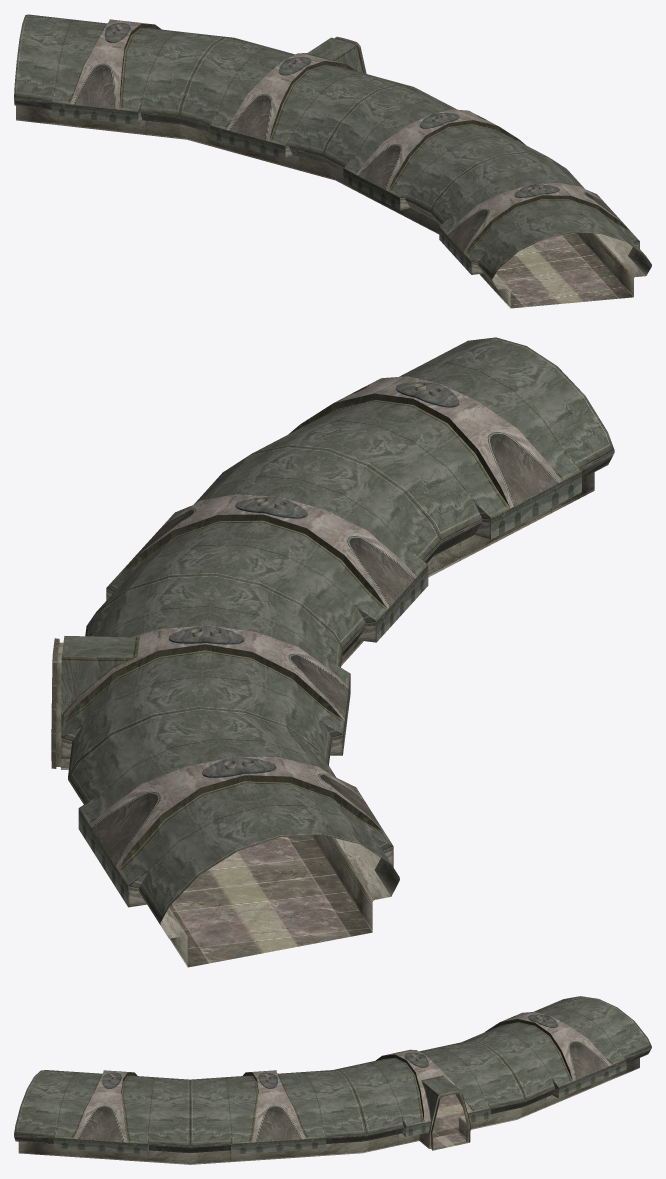
Rendered from thm_yavn_jedi_enclave_light_r20_curvehall4_mesh_r20.fbx.
The picture shows the model from 3 angles, top to bottom: view 1: azimuth 30°, elevation 25°; view 2: azimuth 150°, elevation 25°; view 3: azimuth 270°, elevation 25°; orthographic projection. The views are drawn at different scales.
Visible parts, largest first — view 1: mesh_node; view 2: mesh_node; view 3: mesh_node.
Part boxes in pixels (x1,y1,x2,y2): mesh_node: (14, 14, 651, 308); mesh_node: (51, 337, 614, 967); mesh_node: (14, 996, 651, 1164).
Bounding box in the file's own units: 16.66 × 3.65 × 34.03.
